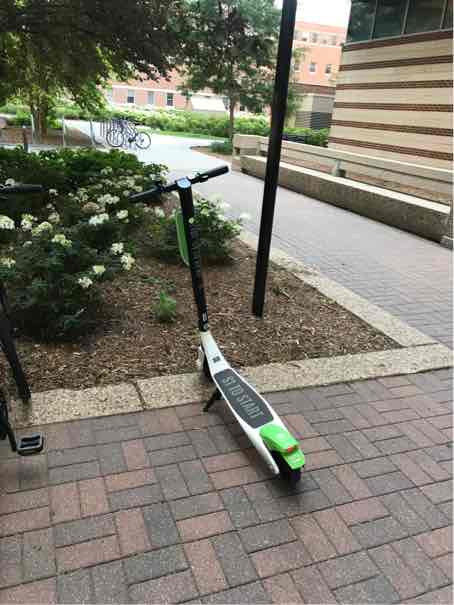scooter: (118, 150, 314, 487)
